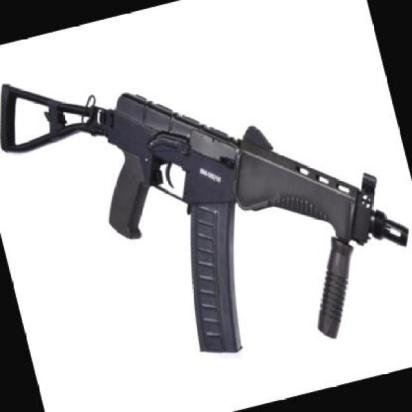Gun: (0, 84, 412, 351)
